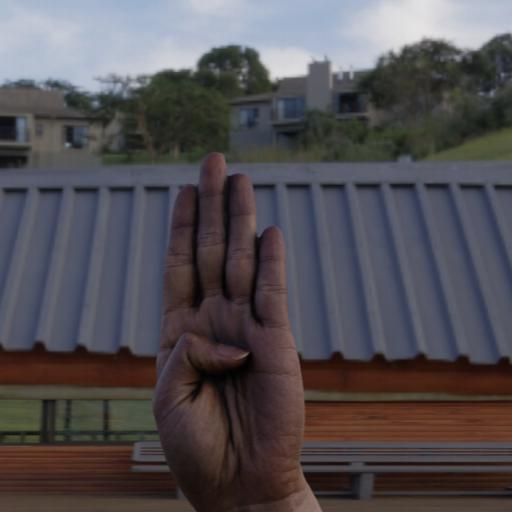B: (154, 148, 312, 500)
